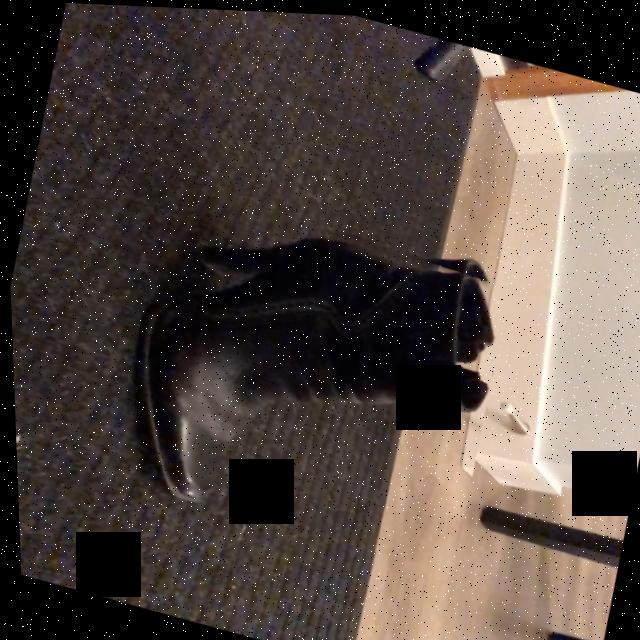shoe: (130, 235, 493, 502)
